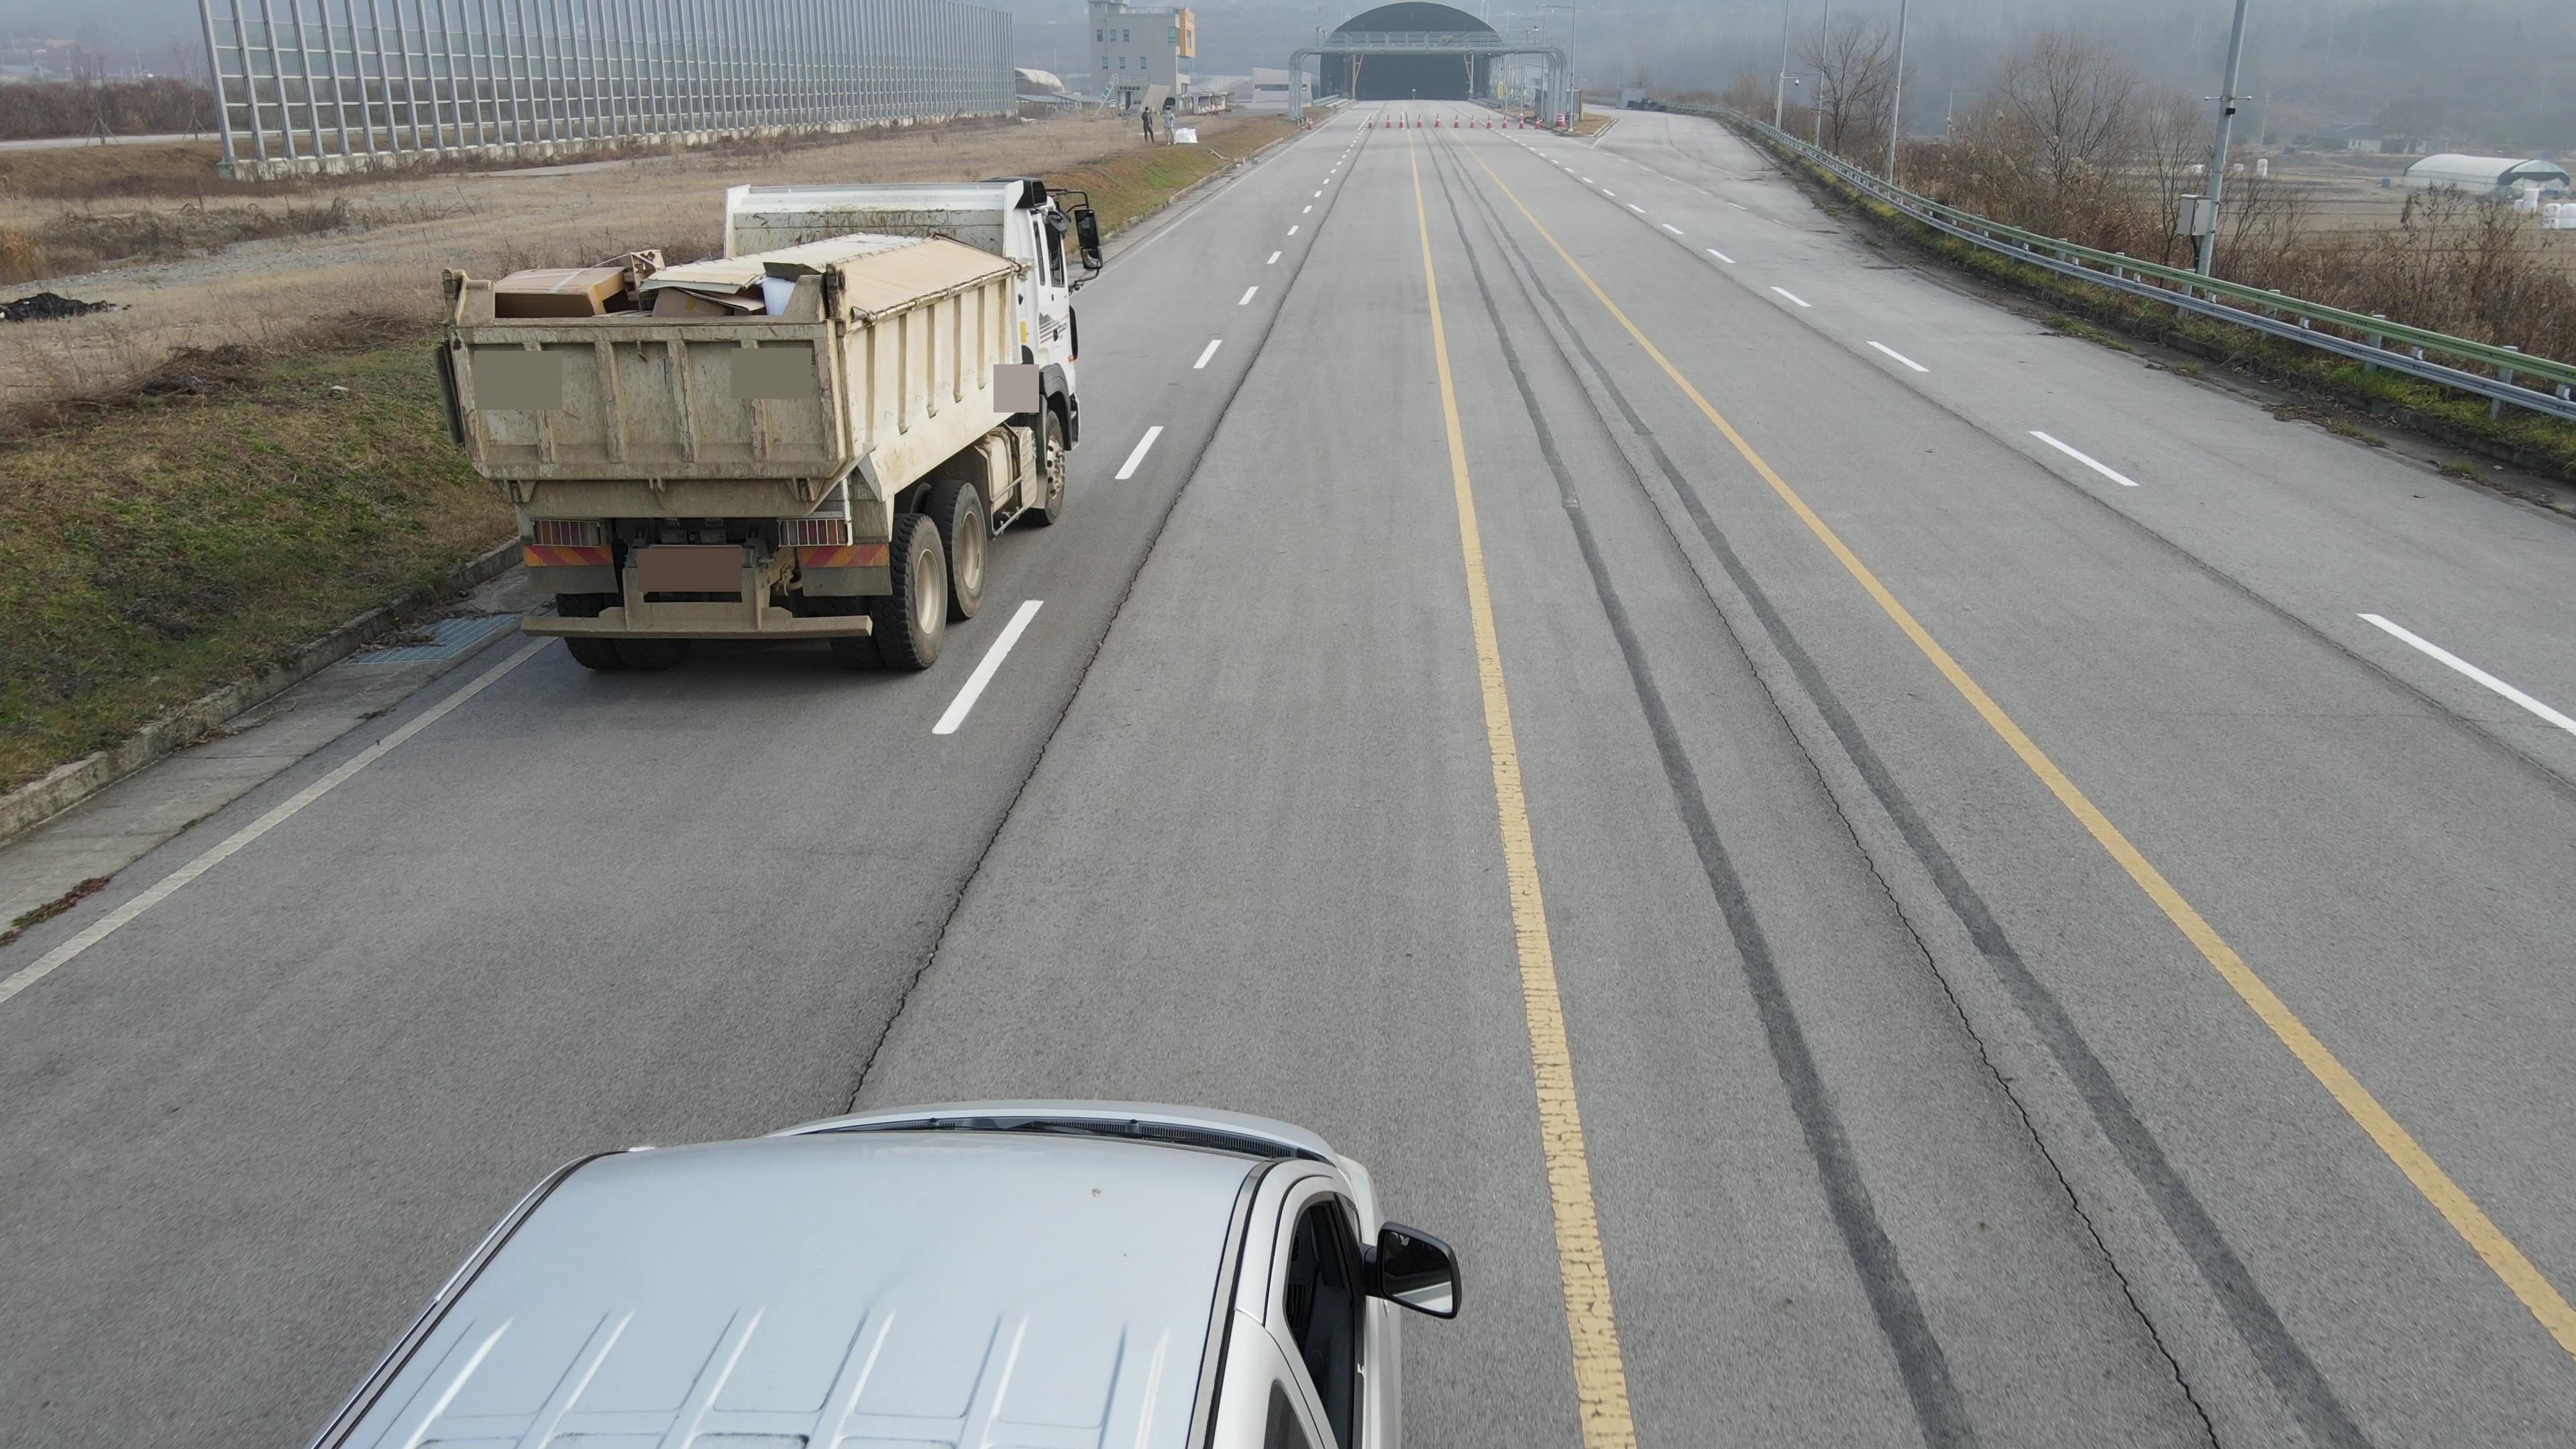불법차량: (437, 176, 1105, 675)
